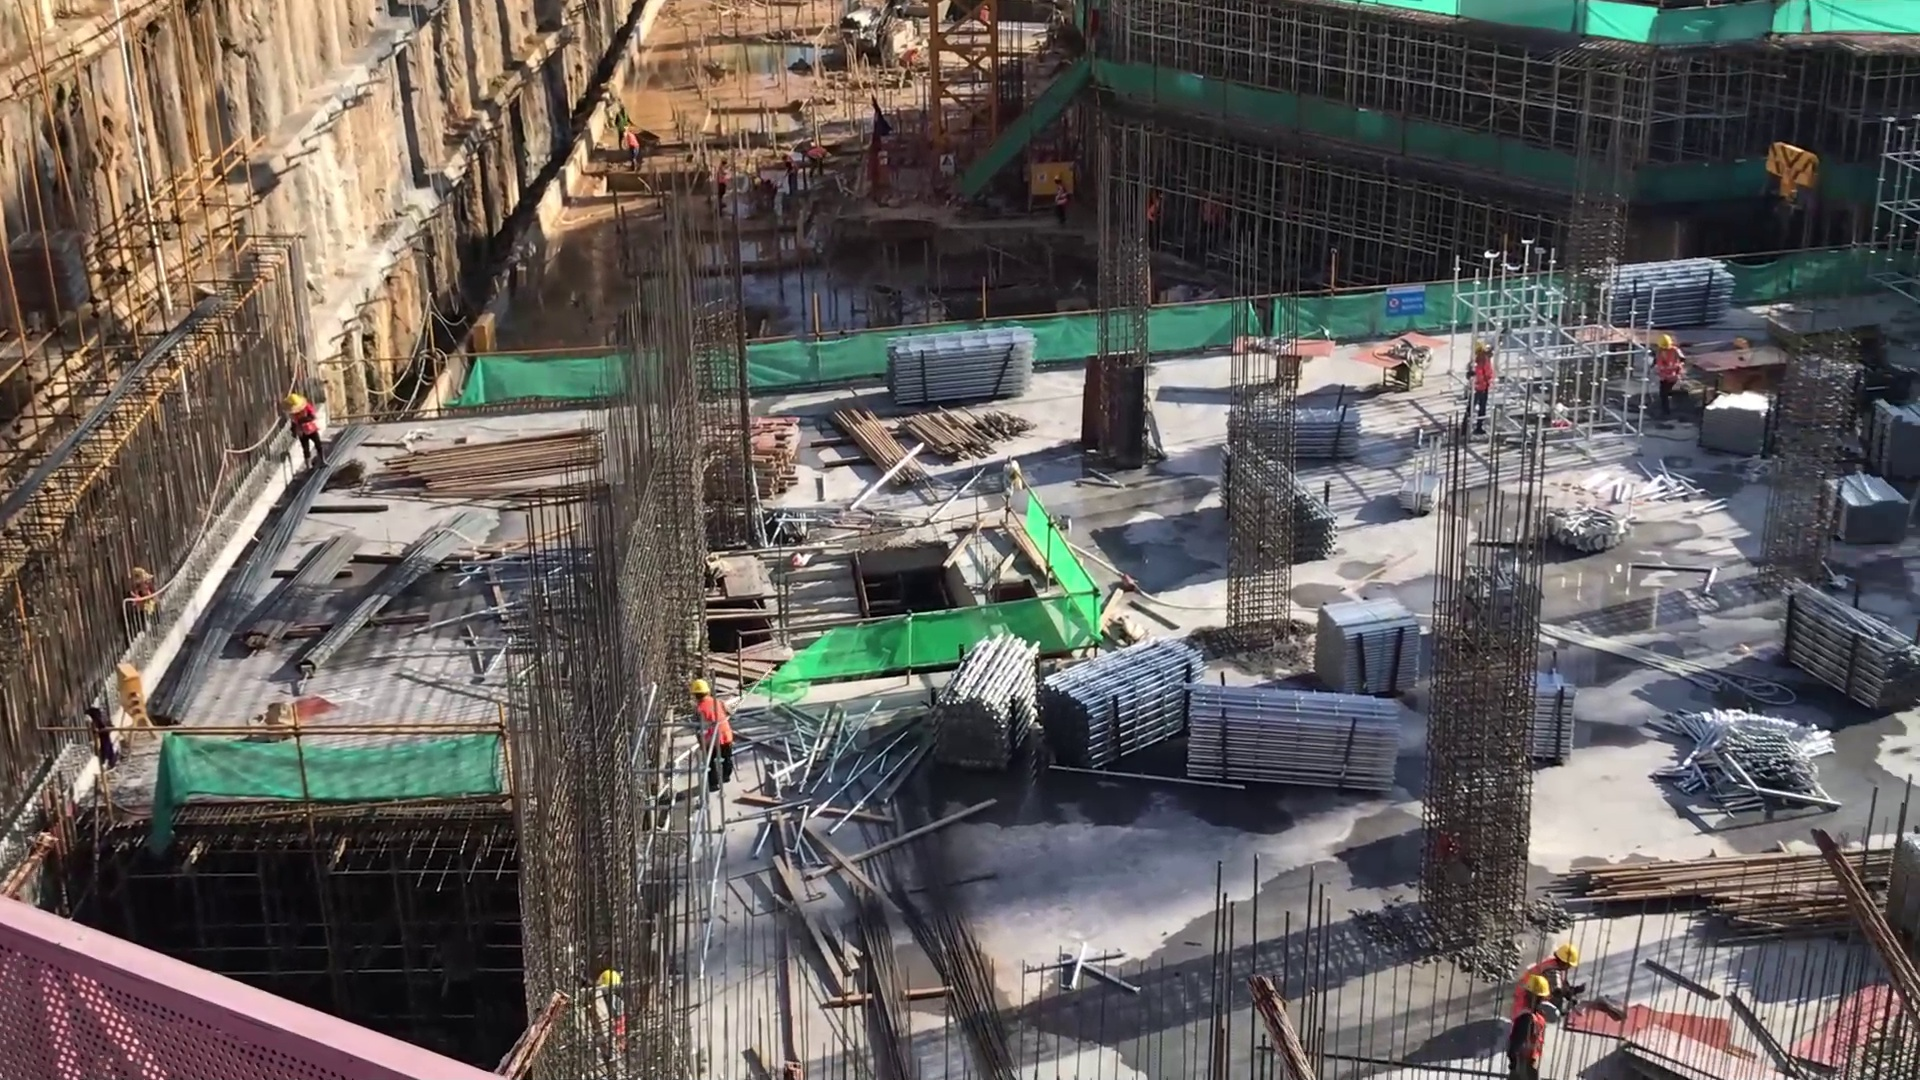cutter: (1349, 324, 1456, 396), (1233, 330, 1339, 392)
ebox: (1022, 155, 1086, 214)
helmet: (1551, 943, 1584, 976), (1650, 329, 1682, 359), (1524, 977, 1554, 1003), (685, 677, 712, 703), (1465, 338, 1494, 360)
hook: (1748, 126, 1824, 221)
person: (1502, 972, 1562, 1080), (687, 673, 743, 790), (1513, 942, 1587, 1017), (1641, 328, 1693, 426), (277, 381, 332, 473), (1463, 336, 1502, 428)
scaffold: (1176, 678, 1411, 795), (1043, 637, 1203, 774), (1782, 574, 1920, 719), (929, 627, 1047, 774), (876, 321, 1038, 412), (1311, 588, 1417, 703), (1593, 249, 1739, 328), (1817, 469, 1914, 550), (1694, 385, 1775, 452), (1290, 406, 1365, 455)
vest: (1509, 1005, 1552, 1077), (696, 699, 744, 748), (1649, 347, 1684, 393), (1512, 953, 1550, 995), (285, 404, 318, 442), (1466, 354, 1494, 397)
